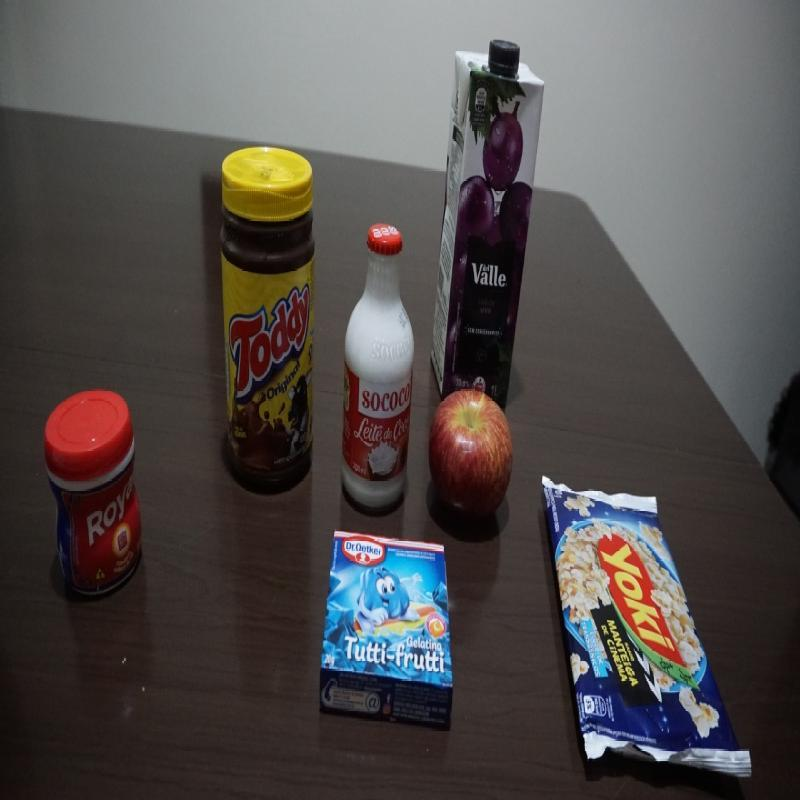Apple: (427, 388, 514, 528)
Chocolate Powder: (218, 143, 317, 494)
Coconut Milk: (340, 220, 416, 518)
Gelatine: (318, 528, 454, 729)
Popcorn: (538, 472, 755, 780)
Yeast: (43, 387, 149, 606)
